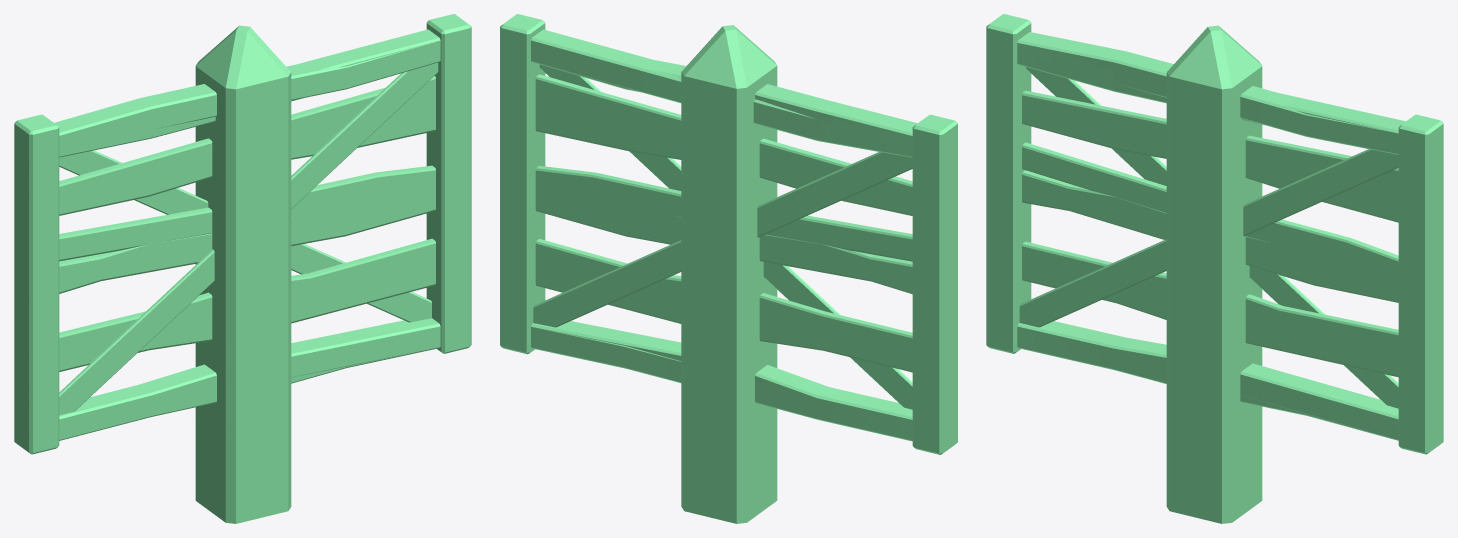
The model's file is Wooden_Fence_2.FBX.
3 renders of one model, left to right at view 1: azimuth 30°, elevation 25°; view 2: azimuth 150°, elevation 25°; view 3: azimuth 330°, elevation 25°, orthographic.
Parts seen in each view (by area): view 1: Wooden_Fence_2_3, Wooden_Fence_2_1, Wooden_Fence_2_post, Wooden_Fence_2_2; view 2: Wooden_Fence_2_3, Wooden_Fence_2_post, Wooden_Fence_2_1, Wooden_Fence_2_2; view 3: Wooden_Fence_2_3, Wooden_Fence_2_1, Wooden_Fence_2_post, Wooden_Fence_2_2.
Part boxes in pixels (left/top/right/bottom): Wooden_Fence_2_3: left=14, top=14, right=471, bottom=454; Wooden_Fence_2_1: left=18, top=14, right=468, bottom=454; Wooden_Fence_2_post: left=195, top=25, right=291, bottom=523; Wooden_Fence_2_2: left=18, top=17, right=470, bottom=453; Wooden_Fence_2_3: left=500, top=14, right=957, bottom=454; Wooden_Fence_2_post: left=681, top=25, right=777, bottom=523; Wooden_Fence_2_1: left=501, top=14, right=954, bottom=454; Wooden_Fence_2_2: left=501, top=14, right=947, bottom=423; Wooden_Fence_2_3: left=986, top=14, right=1443, bottom=454; Wooden_Fence_2_1: left=987, top=14, right=1439, bottom=454; Wooden_Fence_2_post: left=1166, top=25, right=1262, bottom=523; Wooden_Fence_2_2: left=988, top=16, right=1429, bottom=453.
Bounding box in the file's own units: 186 × 191 × 27.51.
